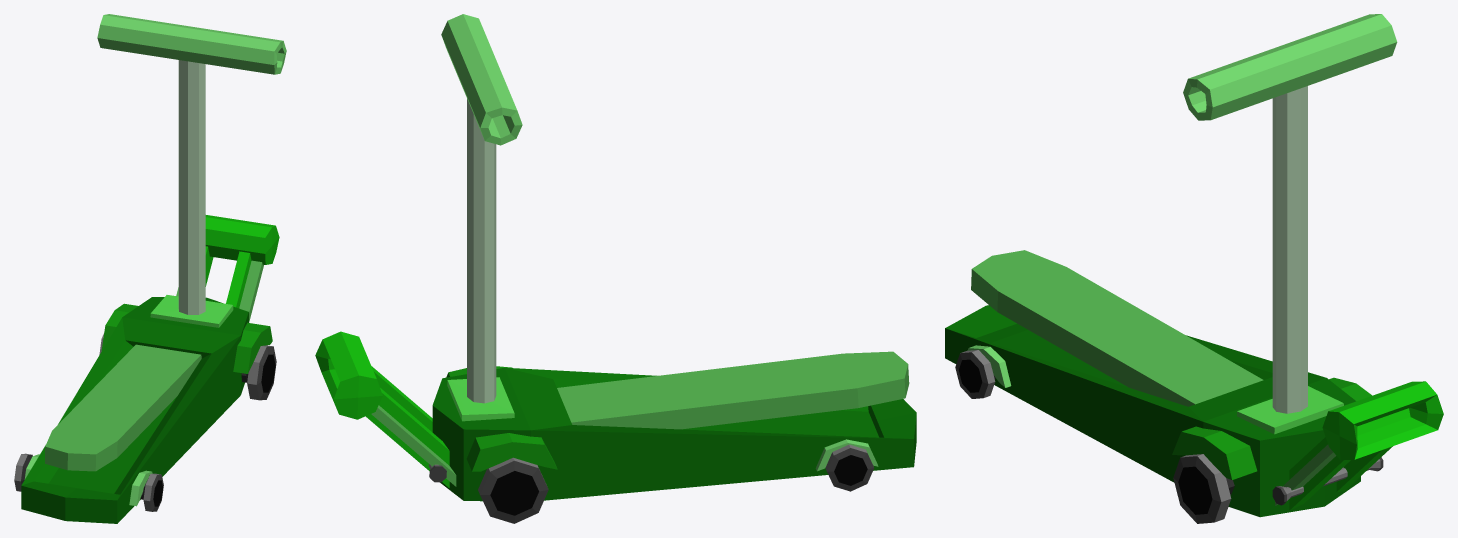
Rendered from MacacoMecanico.fbx.
3 renders of one model, left to right at view 1: azimuth 30°, elevation 25°; view 2: azimuth 150°, elevation 25°; view 3: azimuth 270°, elevation 25°, orthographic. The views are drawn at different scales.
Parts seen in each view (by area): view 1: Macaco mecanico; view 2: Macaco mecanico; view 3: Macaco mecanico.
Boxes of the visible parts, <box> form: Macaco mecanico: <box>14,14,286,523</box>; Macaco mecanico: <box>315,14,916,523</box>; Macaco mecanico: <box>945,14,1443,523</box>.
Bounding box in the file's own units: 104 × 92.19 × 91.98.
